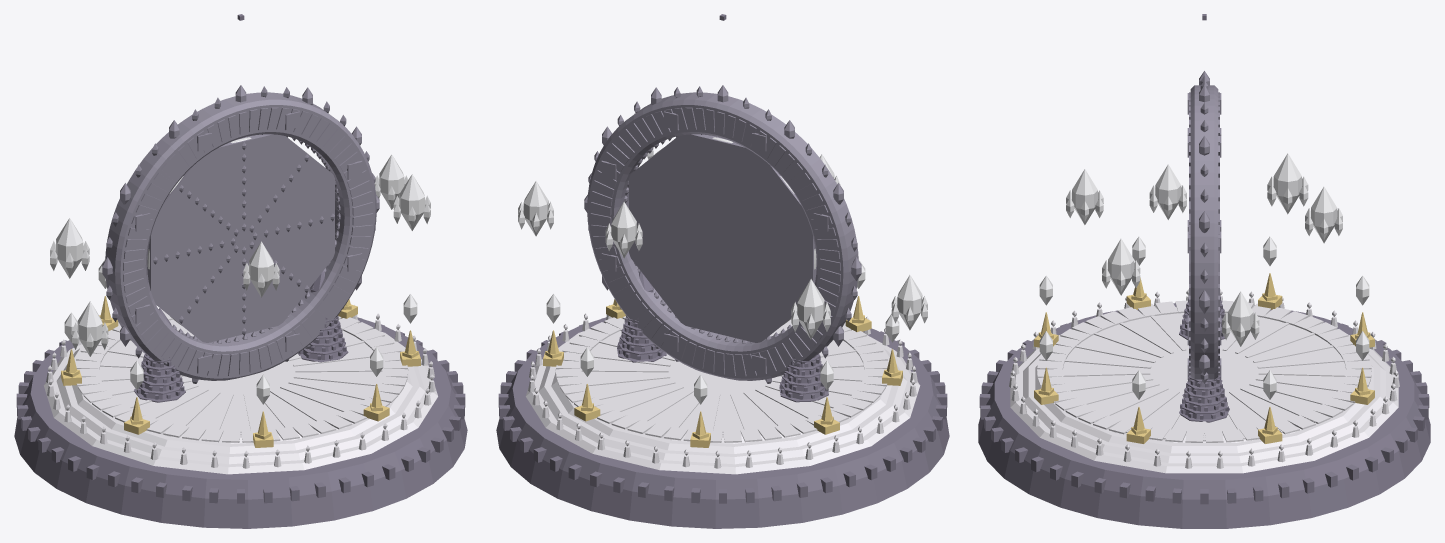
File: EXPEDITION_EXIT.fbx
3 renders of one model, left to right at view 1: azimuth 30°, elevation 25°; view 2: azimuth 150°, elevation 25°; view 3: azimuth 270°, elevation 25°, orthographic.
Visible parts, largest first — view 1: Plinth, OuterRing, Foundation, Blade3, Blade5, Blade6, Blade2, Blade4, Blade1, Blade7, Blade8, RingFoot1 (+6 smaller); view 2: Plinth, Foundation, OuterRing, Blade3, Blade7, Blade8, Blade2, Blade4, Blade5, Blade6, Blade1, RingFoot1 (+5 smaller); view 3: Plinth, Foundation, OuterRing, RingFoot2, Shard3, Shard6, Shard2, Shard5, Shard4, Shard1.
Boxes of the visible parts, box(x1,y1,x2,y2) form: Plinth: box(43, 305, 437, 474); OuterRing: box(102, 85, 379, 383); Foundation: box(14, 317, 467, 528); Blade3: box(206, 134, 279, 237); Blade5: box(147, 221, 242, 298); Blade6: box(153, 238, 242, 342); Blade2: box(243, 135, 333, 237); Blade4: box(155, 155, 242, 237); Blade1: box(243, 177, 334, 255); Blade7: box(205, 238, 280, 342); Blade8: box(243, 238, 333, 323); RingFoot1: box(134, 308, 185, 402); Plinth: box(526, 305, 920, 474); Foundation: box(496, 317, 949, 528); OuterRing: box(584, 85, 861, 383); Blade3: box(684, 134, 757, 237); Blade7: box(683, 238, 758, 342); Blade8: box(630, 238, 720, 323); Blade2: box(630, 135, 720, 237); Blade4: box(721, 155, 808, 237); Blade5: box(721, 221, 816, 292); Blade6: box(721, 238, 801, 342); Blade1: box(629, 177, 720, 255); RingFoot1: box(779, 354, 828, 402); Plinth: box(1009, 289, 1399, 473); Foundation: box(978, 303, 1430, 528); OuterRing: box(1187, 71, 1221, 383); RingFoot2: box(1179, 374, 1229, 422); Shard3: box(1267, 153, 1308, 214); Shard6: box(1102, 238, 1140, 295); Shard2: box(1305, 186, 1342, 243); Shard5: box(1066, 169, 1103, 224); Shard4: box(1149, 164, 1186, 219); Shard1: box(1222, 291, 1259, 346).
Bounding box in the file's own units: 3881 × 3965 × 3881.
